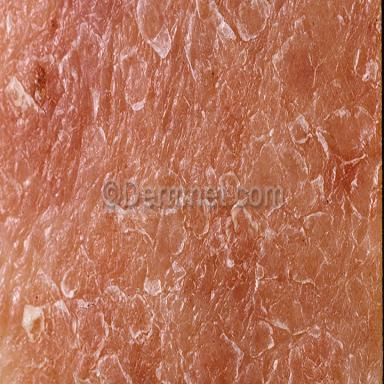Psoriasis: (2, 0, 382, 382)
